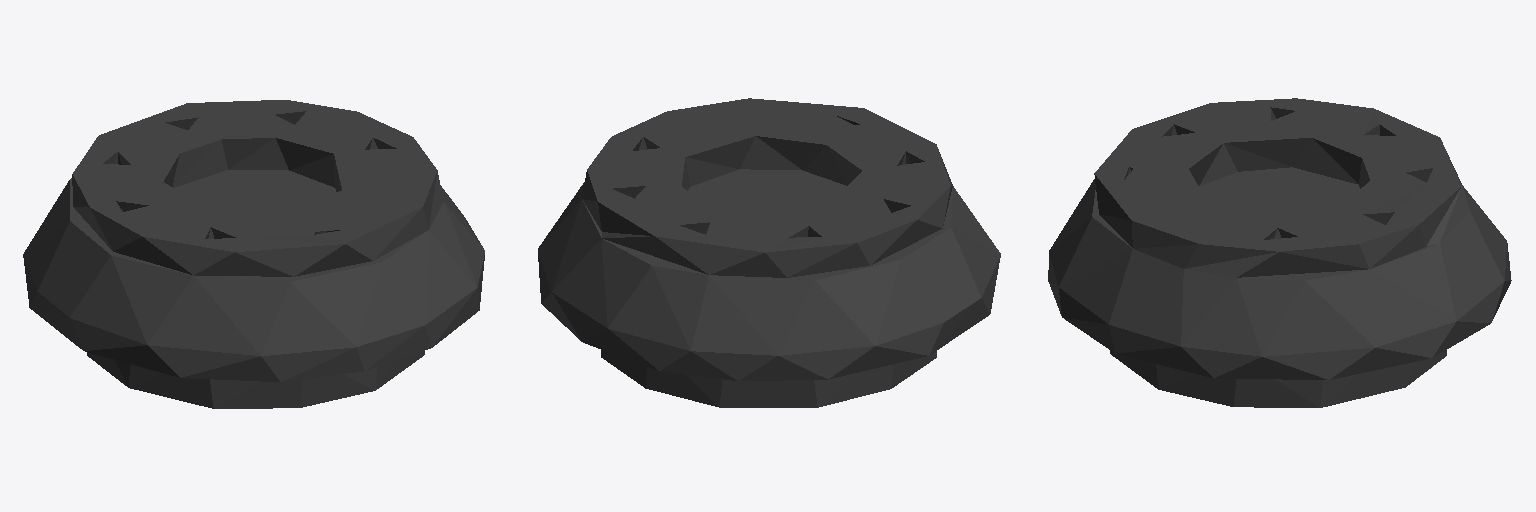
3 renders of one model, left to right at view 1: azimuth 30°, elevation 25°; view 2: azimuth 150°, elevation 25°; view 3: azimuth 270°, elevation 25°, orthographic.
Visible parts, largest first — view 1: link7_object.008; view 2: link7_object.008; view 3: link7_object.008.
Part boxes in pixels (x1,y1,x2,y2): link7_object.008: (23, 100, 484, 408); link7_object.008: (538, 98, 1000, 407); link7_object.008: (1048, 98, 1511, 407).
Size of the model in its own units: 0.0803 by 0.031 by 0.0805.